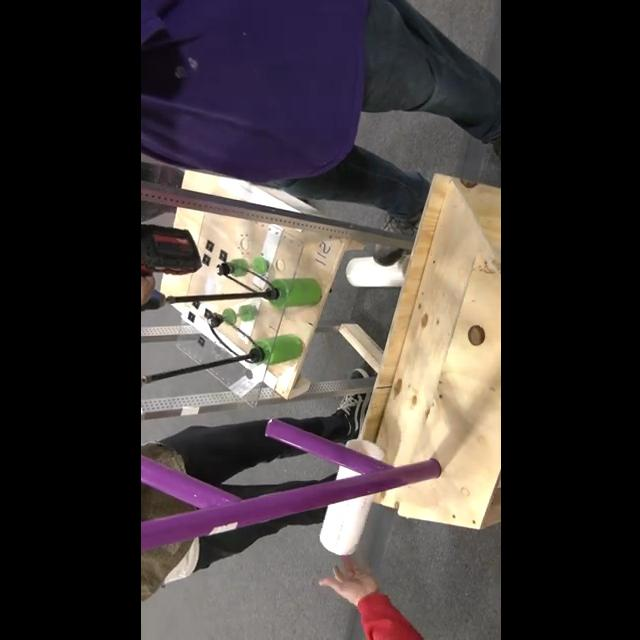CORAL: (316, 438, 384, 556), (346, 256, 406, 288)
